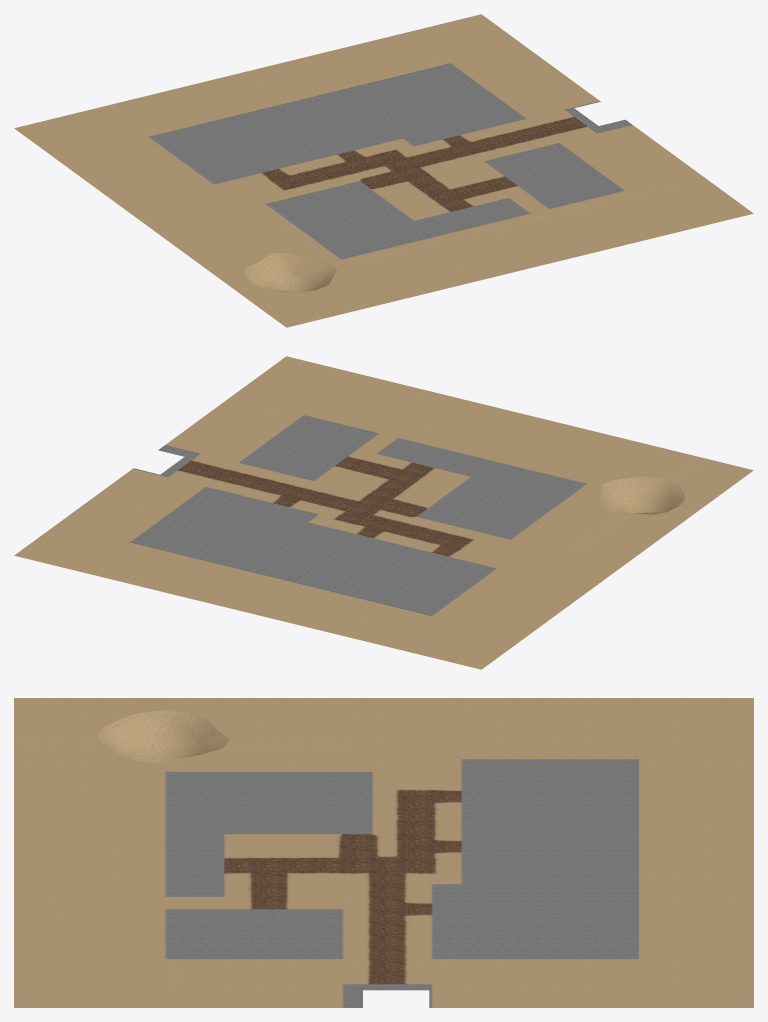
File: terrain.glb
3 views of the same model, one above another, from view 1: azimuth 30°, elevation 25°; view 2: azimuth 150°, elevation 25°; view 3: azimuth 270°, elevation 25° (orthographic). The views are drawn at different scales.
Visible parts, largest first — view 1: Plane.001; view 2: Plane.001; view 3: Plane.001.
Part boxes in pixels (x1,y1,x2,y2): Plane.001: [14, 14, 753, 327]; Plane.001: [14, 356, 753, 669]; Plane.001: [14, 698, 753, 1007].
Bounding box in the file's own units: 13.94 × 0.6837 × 14.07.
Materials: 1 (1 with a texture image).
